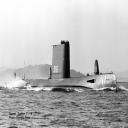submarine: (13, 45, 118, 93)
